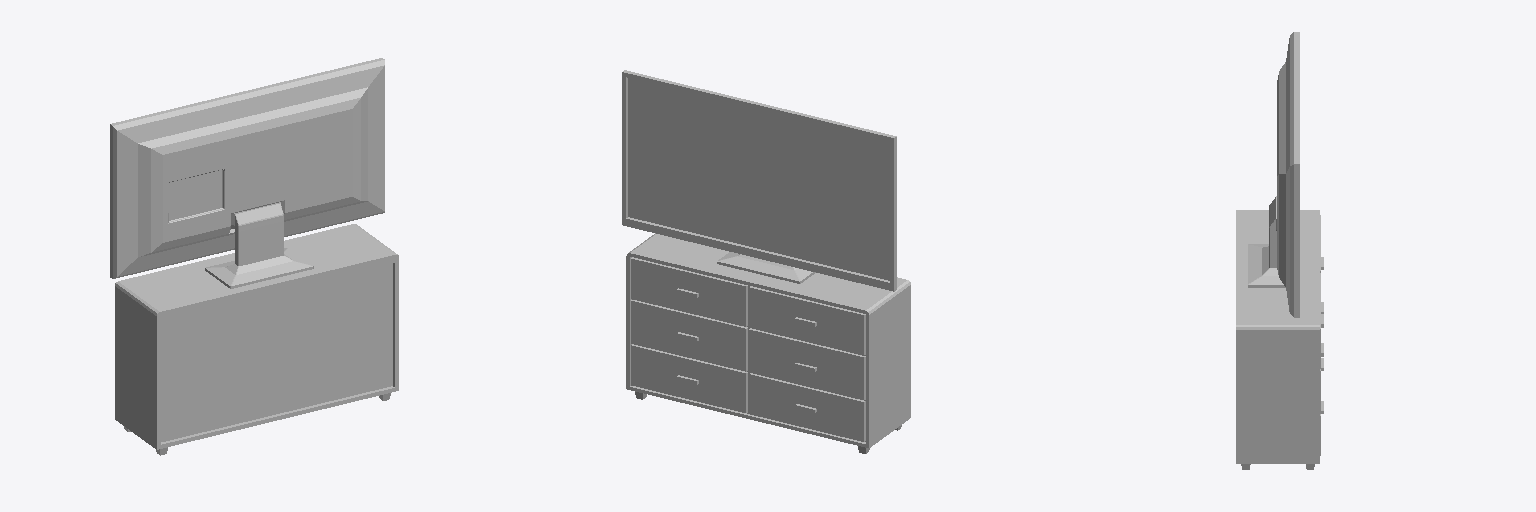
3 renders of one model, left to right at view 1: azimuth 30°, elevation 25°; view 2: azimuth 150°, elevation 25°; view 3: azimuth 270°, elevation 25°, orthographic.
Parts seen in each view (by area): view 1: TVDresser, TV; view 2: TV, TVDresser; view 3: TVDresser, TV.
Boxes of the visible parts, box(x1,y1,x2,y2) form: TVDresser: box(115, 224, 398, 455); TV: box(110, 58, 384, 288); TV: box(622, 70, 896, 291); TVDresser: box(626, 233, 910, 453); TVDresser: box(1236, 210, 1323, 469); TV: box(1248, 32, 1299, 317).
Size of the model in its own units: 31.45 by 34.9 by 8.8.